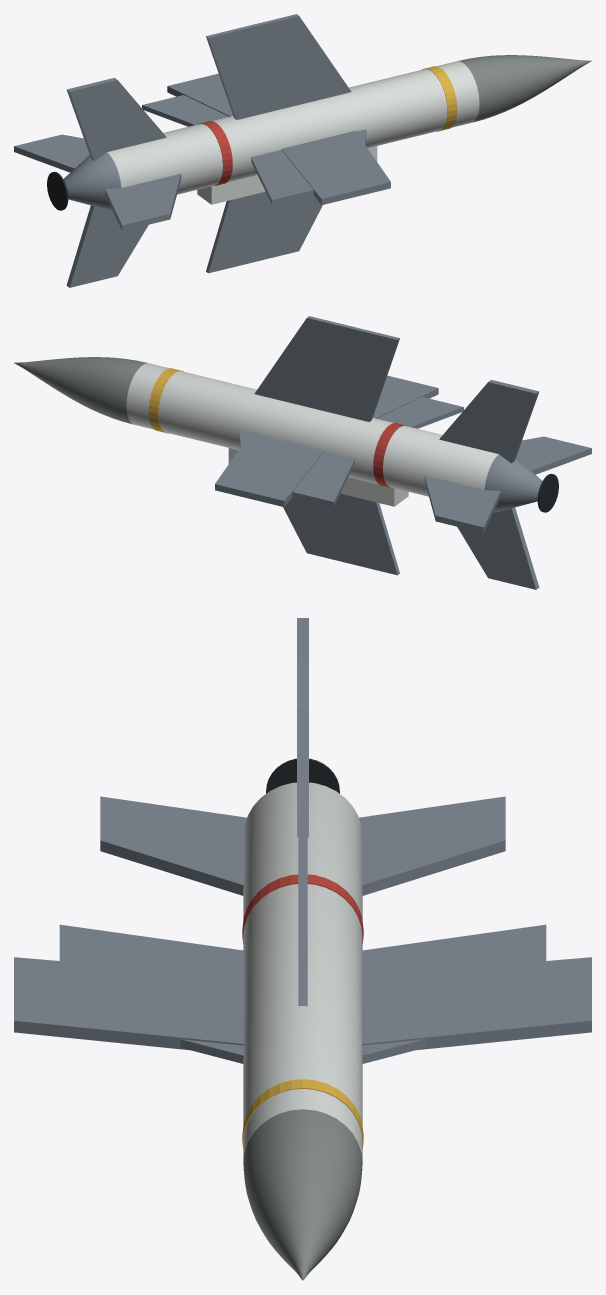
Rendered from otomat_mk2.glb.
3 renders of one model, top to bottom at view 1: azimuth 30°, elevation 25°; view 2: azimuth 150°, elevation 25°; view 3: azimuth 270°, elevation 25°, orthographic. The views are drawn at different scales.
Parts seen in each view (by area): view 1: otomat_mk2; view 2: otomat_mk2; view 3: otomat_mk2.
Part boxes in pixels (left/top/right/bottom): otomat_mk2: left=14, top=14, right=591, bottom=287; otomat_mk2: left=14, top=316, right=591, bottom=589; otomat_mk2: left=14, top=618, right=591, bottom=1280.
Bounding box in the file's own units: 10 × 4.2 × 5.
